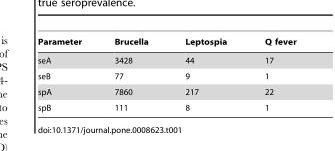table: (37, 37, 295, 111)
table column: (166, 37, 245, 111), (97, 37, 166, 111), (37, 37, 97, 111), (245, 37, 295, 111)
table column header: (37, 37, 295, 50)
table row: (37, 50, 295, 68), (37, 83, 295, 99), (37, 68, 295, 83), (37, 37, 295, 50), (37, 99, 295, 111)
